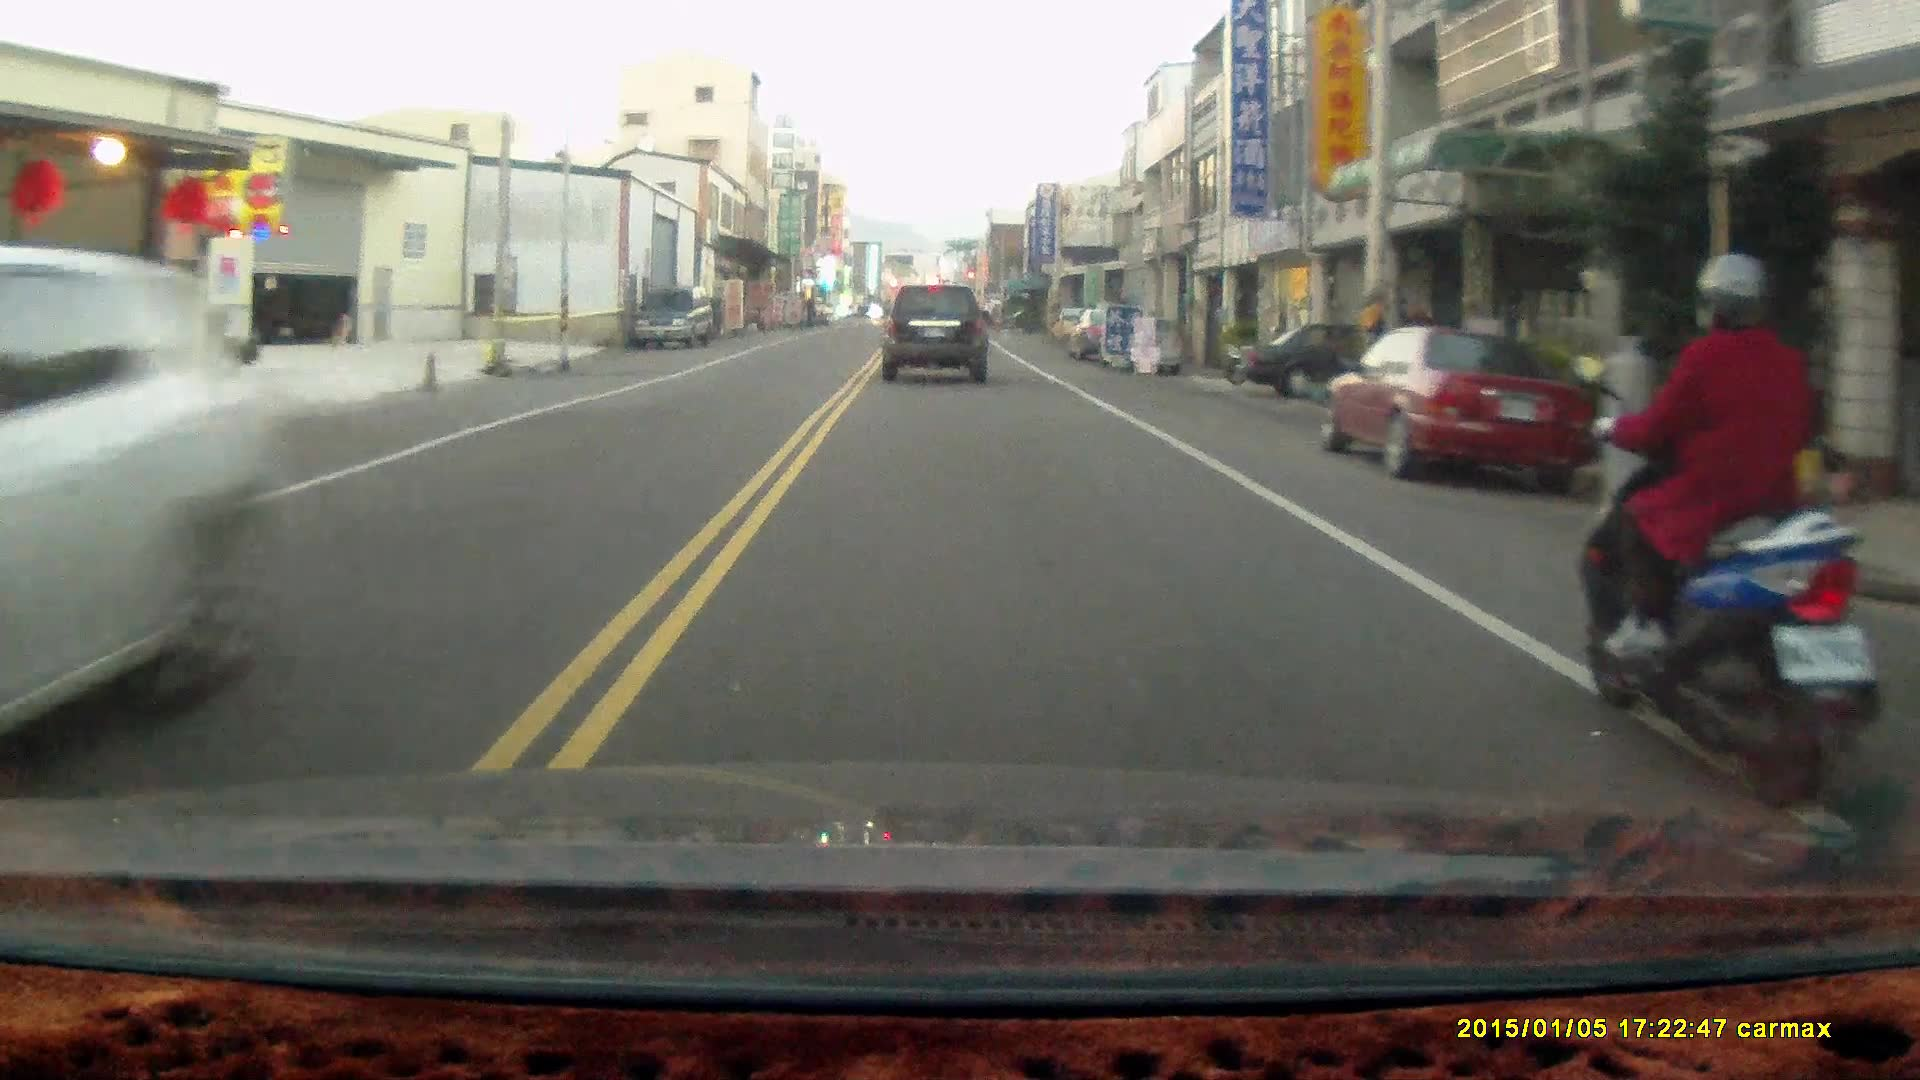rider: (1575, 245, 1880, 816)
vehicle: (1, 245, 279, 790), (1328, 318, 1603, 496), (1230, 319, 1451, 403), (883, 280, 992, 384), (629, 287, 720, 350)
